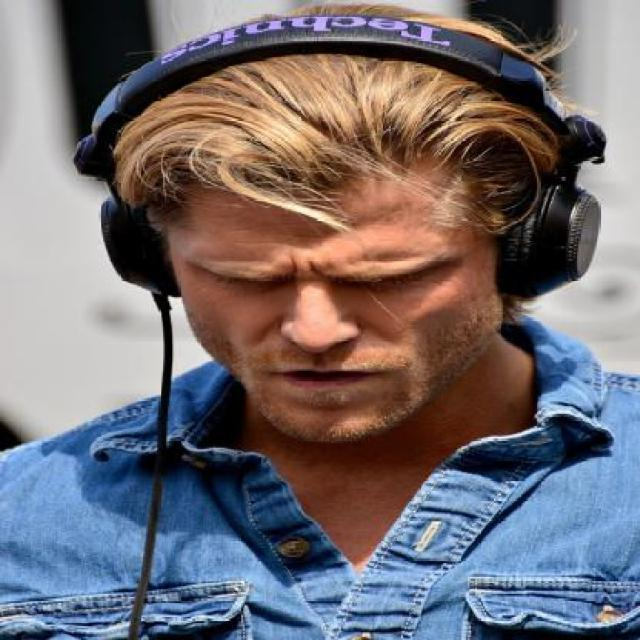earphone: (46, 28, 612, 300)
